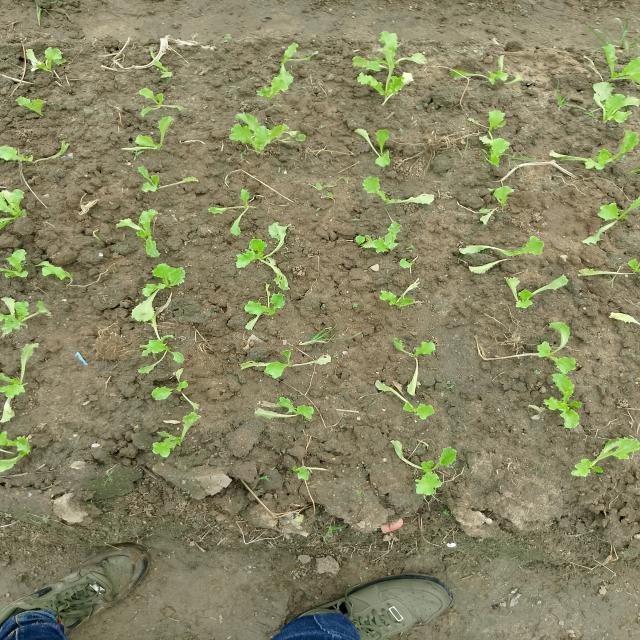Lettuce: (348, 27, 426, 108), (522, 364, 588, 432), (462, 107, 536, 164), (365, 375, 449, 421), (467, 231, 551, 276), (228, 286, 304, 335), (562, 437, 640, 484), (404, 442, 467, 500), (0, 342, 49, 416), (376, 327, 447, 378), (132, 263, 192, 323), (132, 410, 202, 457), (344, 122, 407, 174), (133, 365, 212, 406), (489, 270, 581, 305), (235, 229, 296, 281), (445, 56, 541, 89), (0, 290, 57, 345), (530, 320, 594, 368), (562, 134, 634, 176), (122, 324, 192, 365), (0, 139, 69, 180), (260, 44, 322, 89), (240, 350, 327, 382), (591, 200, 640, 254), (228, 115, 290, 157), (120, 114, 175, 161), (119, 212, 178, 253), (464, 169, 519, 212), (134, 49, 188, 90), (578, 89, 640, 124), (126, 166, 200, 194), (0, 183, 35, 240), (115, 87, 186, 115), (16, 43, 76, 74), (257, 398, 319, 427), (0, 428, 35, 475), (593, 51, 640, 84), (3, 248, 38, 290), (279, 456, 323, 484), (224, 195, 258, 228), (15, 96, 62, 118)
